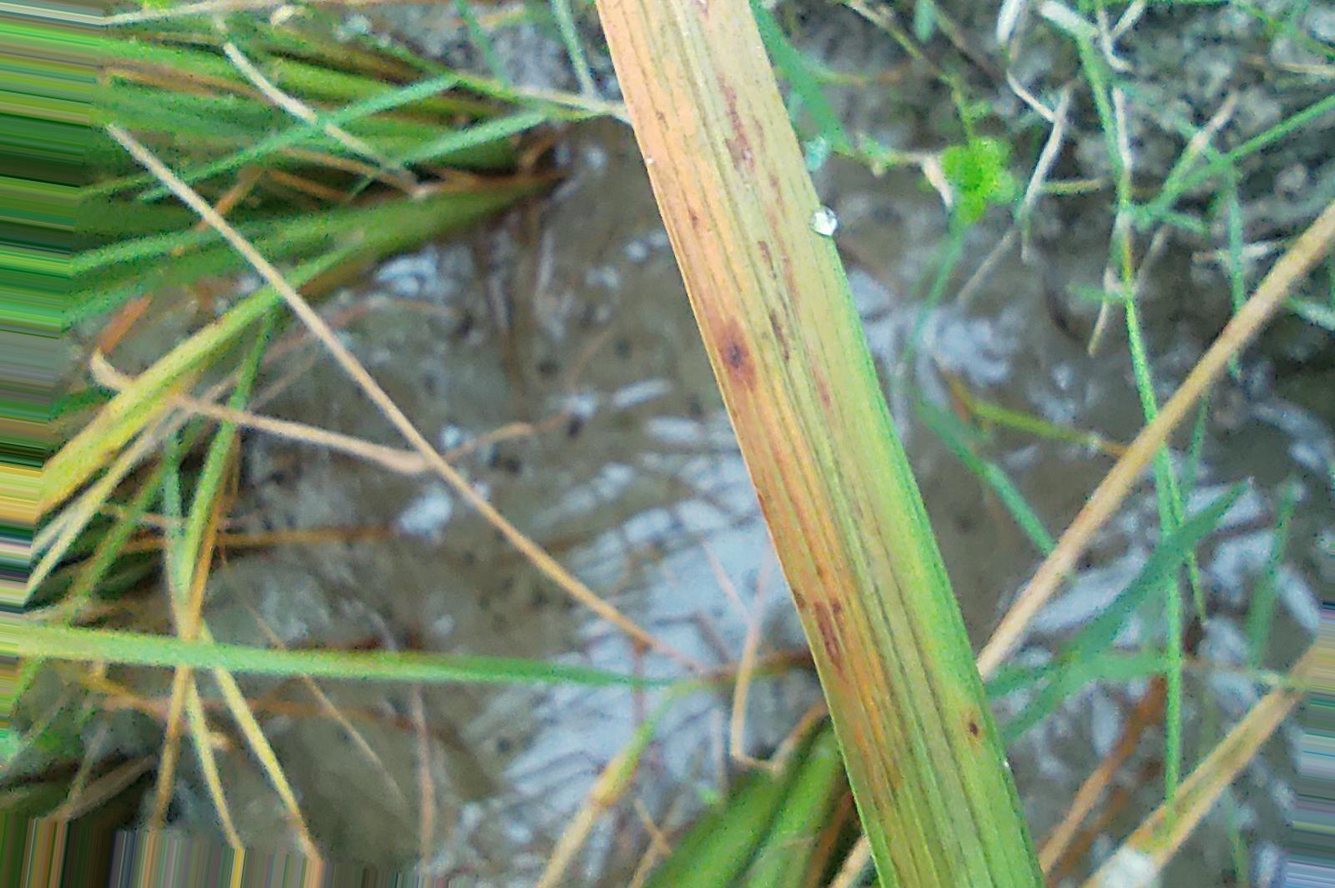LEAF: (597, 0, 1041, 887)
NBS: (714, 76, 755, 182), (767, 214, 801, 325), (814, 593, 850, 683), (766, 309, 794, 364), (811, 361, 832, 428), (749, 99, 768, 157), (755, 239, 778, 283), (767, 173, 785, 218), (792, 587, 807, 612), (688, 204, 701, 231), (695, 0, 709, 21), (967, 719, 979, 738)
